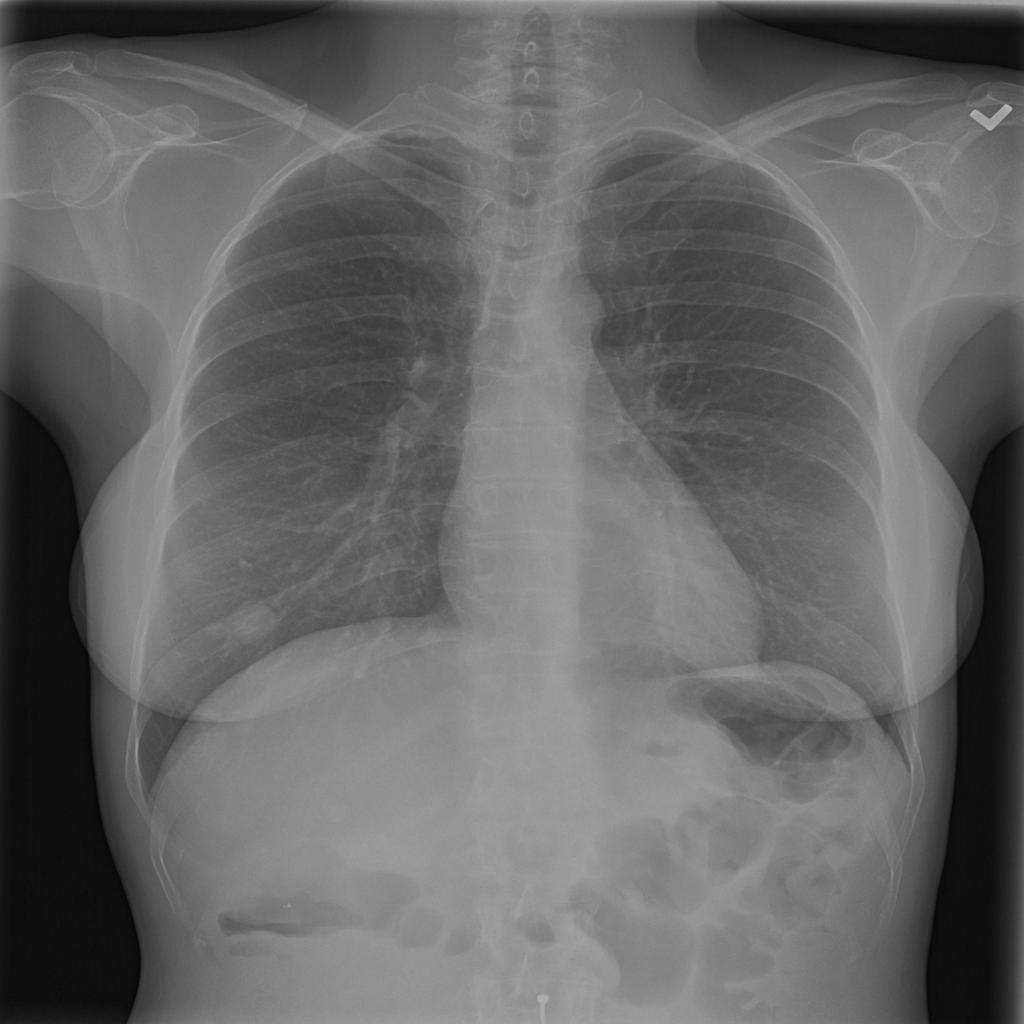nodule: (214, 590, 295, 652)
